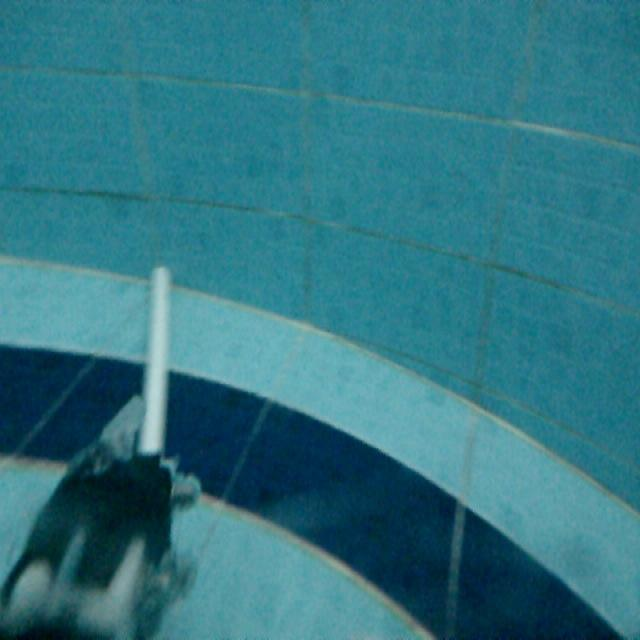Cube: (135, 258, 174, 458)
